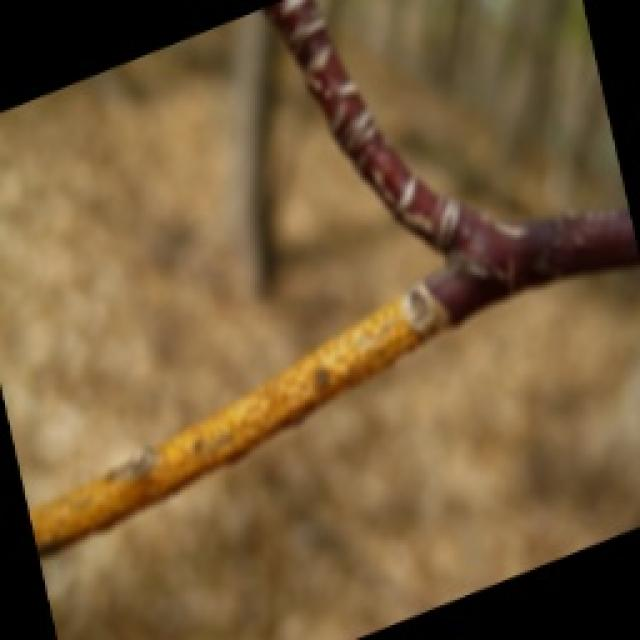Golden_canker: (25, 275, 450, 557)
